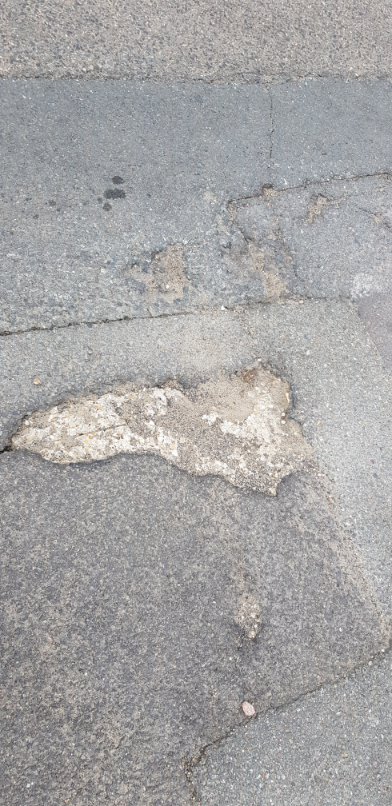pothole: (2, 354, 322, 503)
